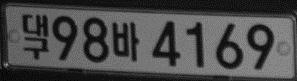1: (183, 21, 210, 68)
4: (152, 20, 180, 66)
6: (216, 23, 243, 69)
8: (82, 16, 109, 63)
9: (246, 23, 275, 70), (52, 15, 77, 60)
대구_V: (21, 13, 49, 60)
바: (111, 21, 139, 62)
